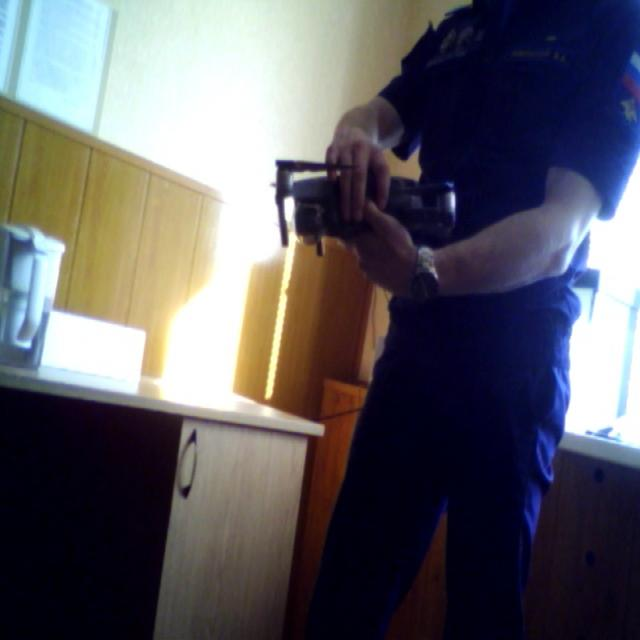drone: (255, 131, 464, 285)
